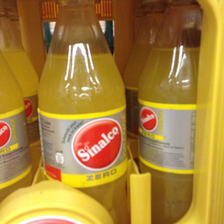soda: (37, 1, 127, 223), (137, 1, 202, 224)
